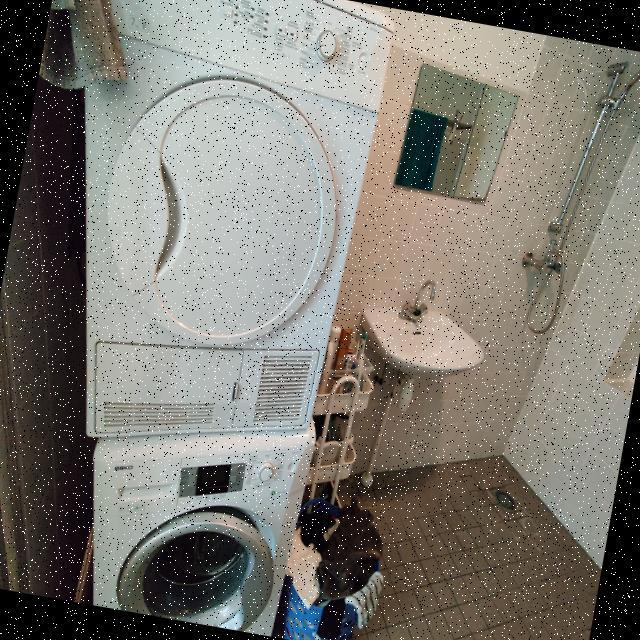douche: (450, 34, 640, 569)
wastafel: (342, 264, 498, 426)
